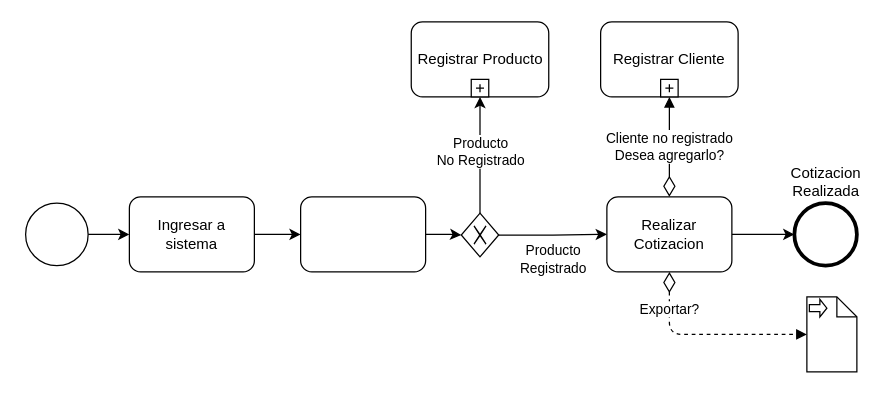
Image size: 883x394. Some labels were removed from this diagram. Each missing label, with the centre of its shape:
"Cliente Solicita Cotizacion" goes at point (56, 234).
"PDF" goes at point (831, 334).
"Verificar Productos" goes at point (362, 234).
